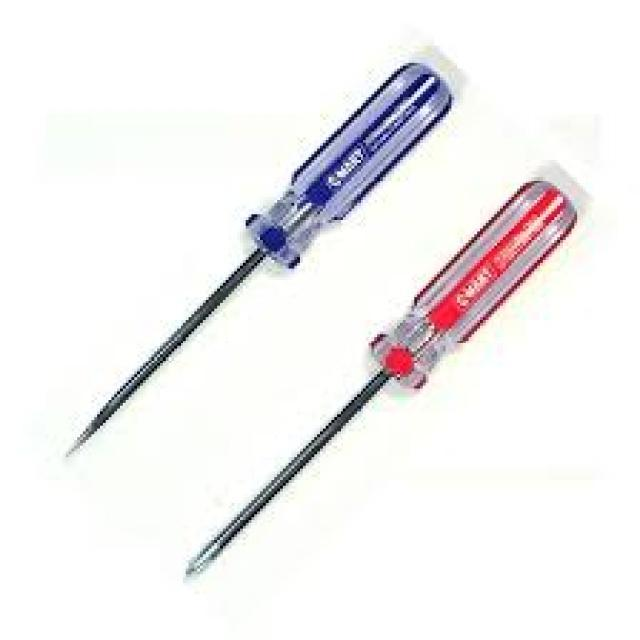screwdriver: (54, 59, 457, 468), (182, 177, 582, 583)
